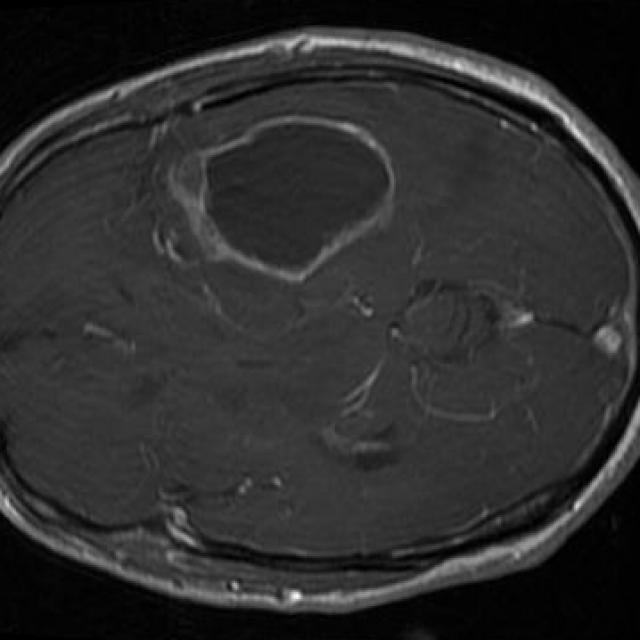glioma: (166, 116, 396, 283)
